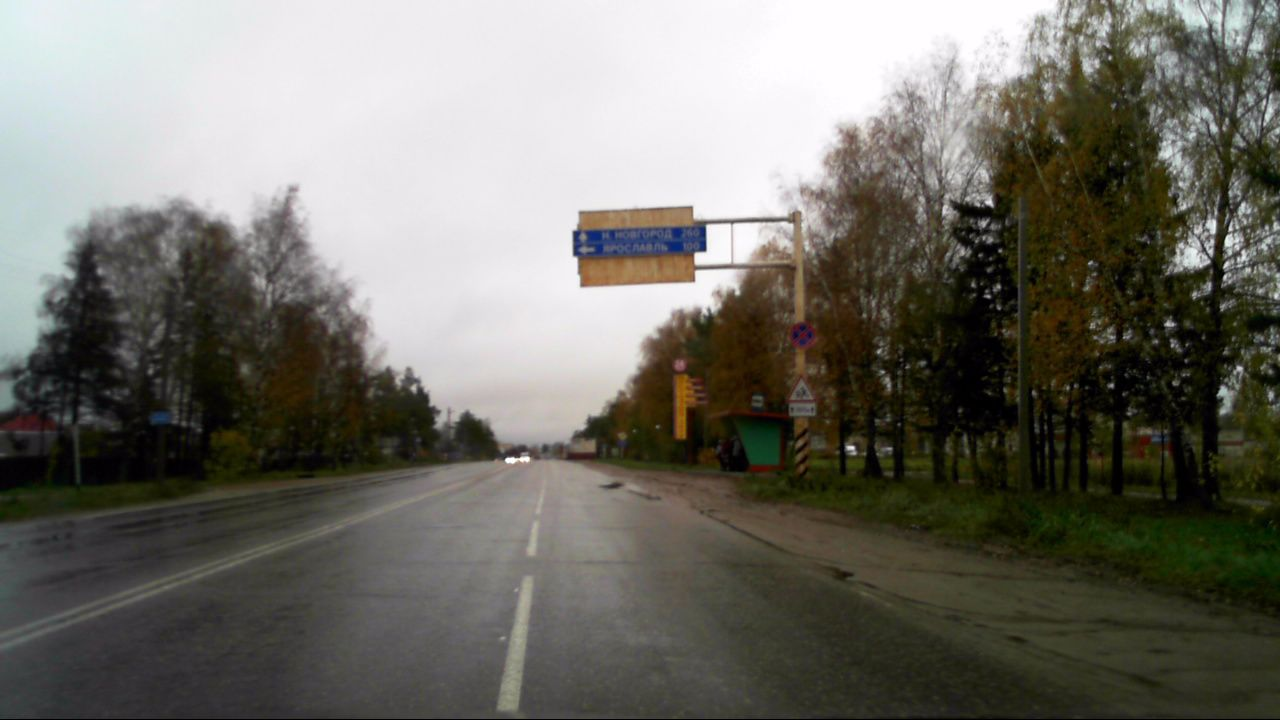No Parking: (786, 319, 817, 349)
